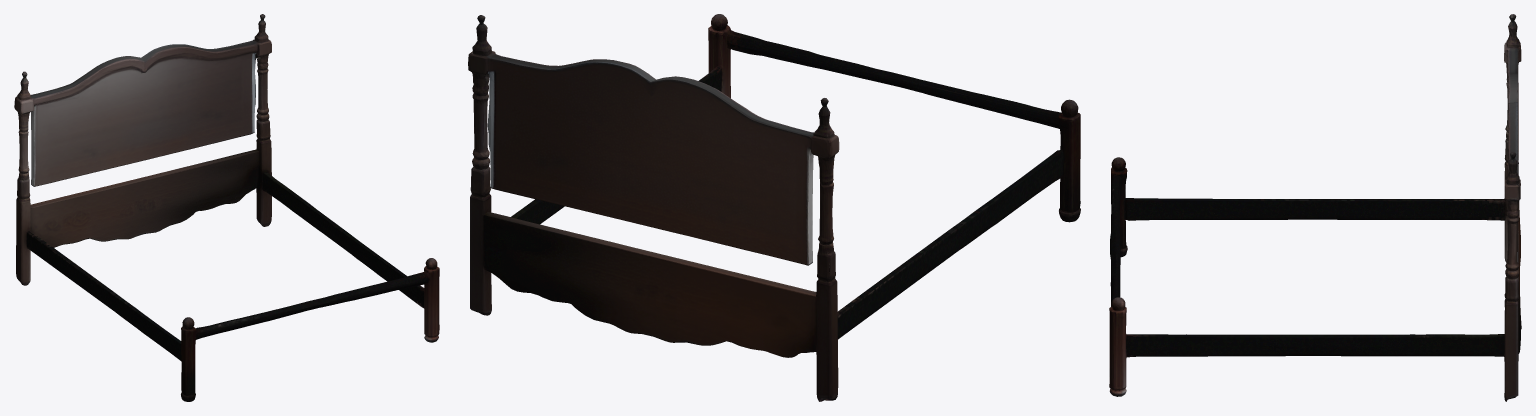
3 renders of one model, left to right at view 1: azimuth 30°, elevation 25°; view 2: azimuth 150°, elevation 25°; view 3: azimuth 270°, elevation 25°, orthographic. The views are drawn at different scales.
Visible parts, largest first — view 1: world; view 2: world; view 3: world.
Boxes of the visible parts, left/top/right/bottom form: world: left=14, top=14, right=439, bottom=401; world: left=468, top=14, right=1080, bottom=401; world: left=1109, top=14, right=1521, bottom=401.
Bounding box in the file's own units: 0.8431 × 0.6668 × 0.9973.
Materials: 1 (1 with a texture image).
